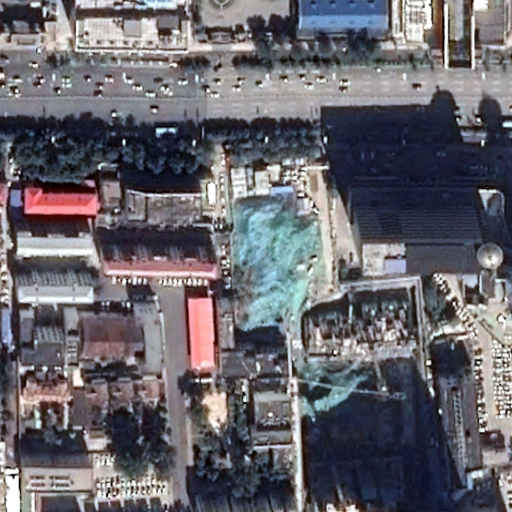cw: (230, 191, 330, 331), (298, 360, 402, 455)
